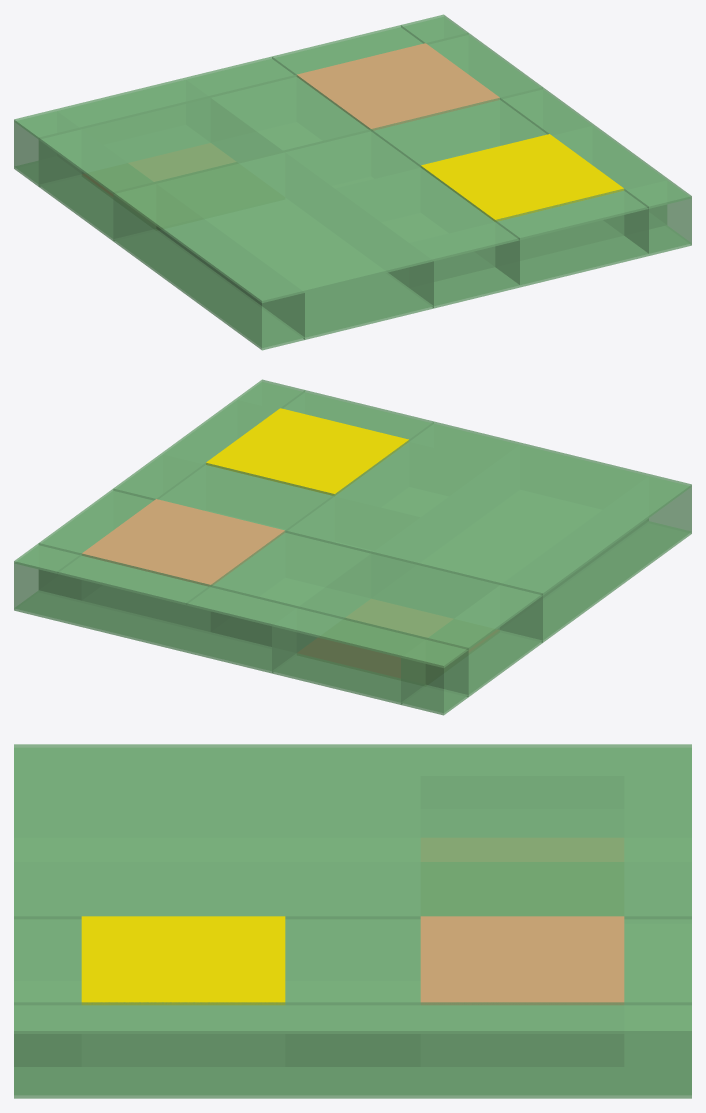
File: board.glb
3 renders of one model, top to bottom at view 1: azimuth 30°, elevation 25°; view 2: azimuth 150°, elevation 25°; view 3: azimuth 270°, elevation 25°, orthographic. The views are drawn at different scales.
Parts seen in each view (by area): view 1: Substrate_Layer_0_Z1, Substrate_Layer_0_Z2, Substrate_Layer_0_Z0, Substrate_Layer_2_Z0, Substrate_Layer_3_Z0, Substrate_Layer_1_Z0; view 2: Substrate_Layer_0_Z1, Substrate_Layer_0_Z2, Substrate_Layer_0_Z0, Substrate_Layer_2_Z0, Substrate_Layer_3_Z0, Substrate_Layer_1_Z0; view 3: Substrate_Layer_0_Z1, Substrate_Layer_0_Z2, Substrate_Layer_0_Z0, Substrate_Layer_3_Z0, Substrate_Layer_2_Z0, Substrate_Layer_1_Z0.
Boxes of the visible parts, x1=… form: Substrate_Layer_0_Z1: x1=14, y1=17, x2=691, y2=347; Substrate_Layer_0_Z2: x1=14, y1=14, x2=691, y2=303; Substrate_Layer_0_Z0: x1=14, y1=161, x2=691, y2=350; Substrate_Layer_2_Z0: x1=296, y1=43, x2=499, y2=130; Substrate_Layer_3_Z0: x1=421, y1=134, x2=624, y2=221; Substrate_Layer_1_Z0: x1=82, y1=143, x2=235, y2=196; Substrate_Layer_0_Z1: x1=14, y1=382, x2=691, y2=712; Substrate_Layer_0_Z2: x1=14, y1=379, x2=691, y2=667; Substrate_Layer_0_Z0: x1=14, y1=521, x2=691, y2=715; Substrate_Layer_2_Z0: x1=82, y1=499, x2=285, y2=586; Substrate_Layer_3_Z0: x1=206, y1=408, x2=408, y2=495; Substrate_Layer_1_Z0: x1=297, y1=599, x2=499, y2=678; Substrate_Layer_0_Z1: x1=14, y1=748, x2=691, y2=1095; Substrate_Layer_0_Z2: x1=14, y1=744, x2=691, y2=1033; Substrate_Layer_0_Z0: x1=14, y1=1034, x2=691, y2=1098; Substrate_Layer_3_Z0: x1=81, y1=916, x2=285, y2=1005; Substrate_Layer_2_Z0: x1=420, y1=916, x2=624, y2=1005; Substrate_Layer_1_Z0: x1=421, y1=838, x2=623, y2=861.
Size of the model in its own units: 0.01 by 0.0011 by 0.01.
